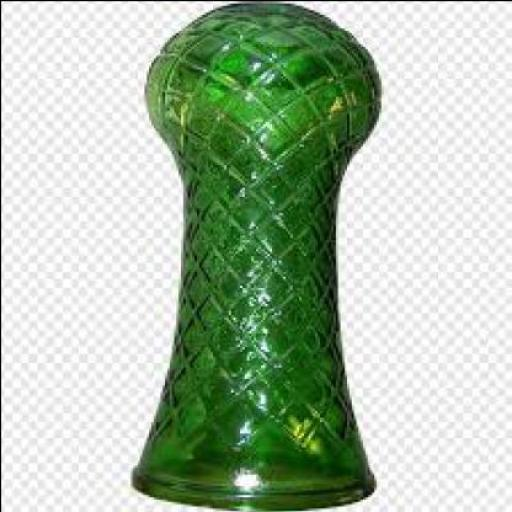glass: (129, 2, 383, 511)
